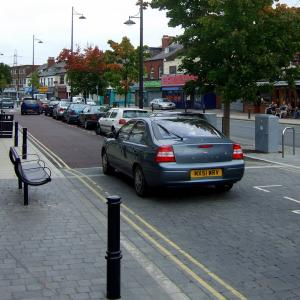Vehicle-registration-plate: (191, 171, 224, 179), (28, 110, 34, 112)
